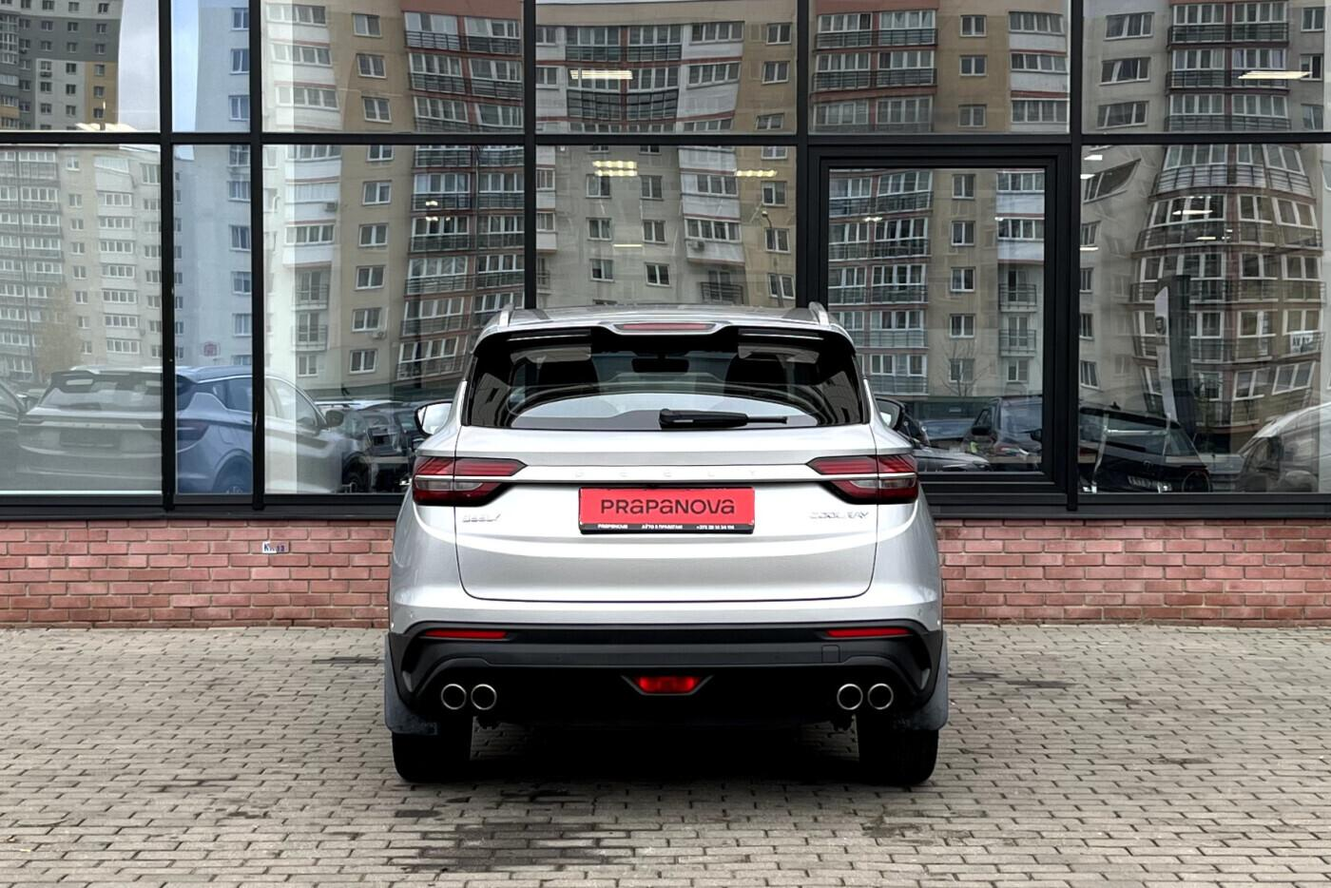Coolray_2019-2023: (374, 295, 951, 807)
